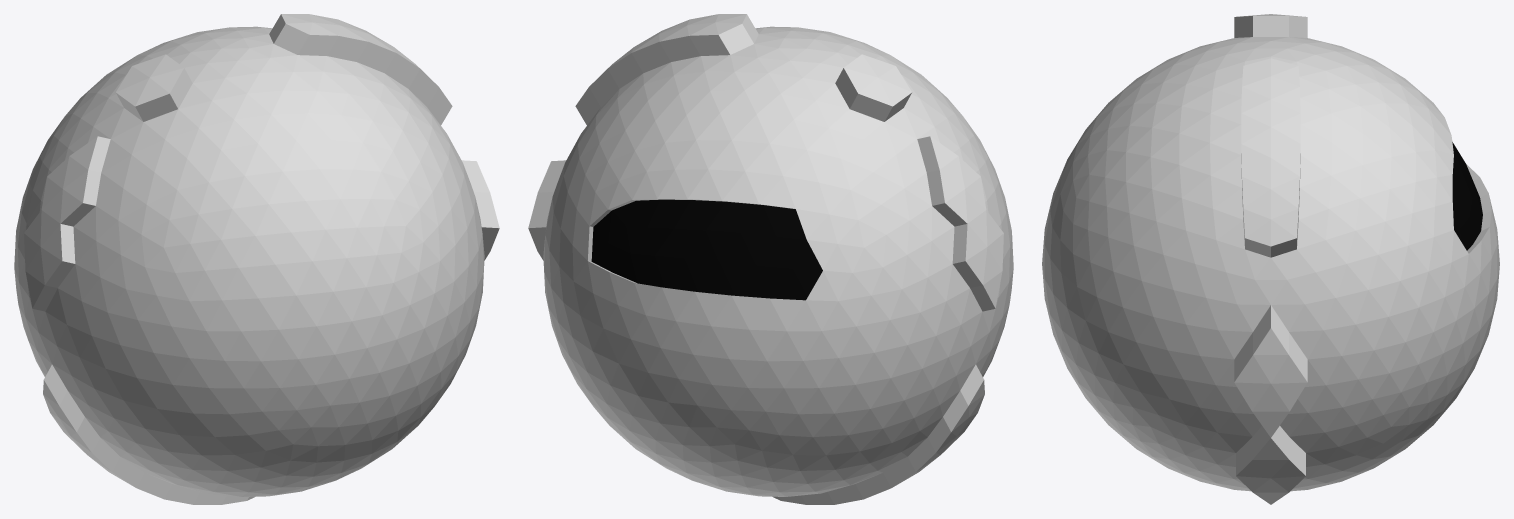
Rendered from abstractglass5.fbx.
The picture shows the model from 3 angles, left to right: view 1: azimuth 30°, elevation 25°; view 2: azimuth 150°, elevation 25°; view 3: azimuth 270°, elevation 25°; orthographic projection. The views are drawn at different scales.
Visible parts, largest first — view 1: Icosphere; view 2: Icosphere; view 3: Icosphere.
Boxes of the visible parts, x1,y1,x2,y2 form: Icosphere: (14, 14, 499, 504); Icosphere: (528, 14, 1013, 504); Icosphere: (1042, 14, 1499, 504).
Size of the model in its own units: 1267 by 1225 by 1146.
2 materials, 1 textured.
